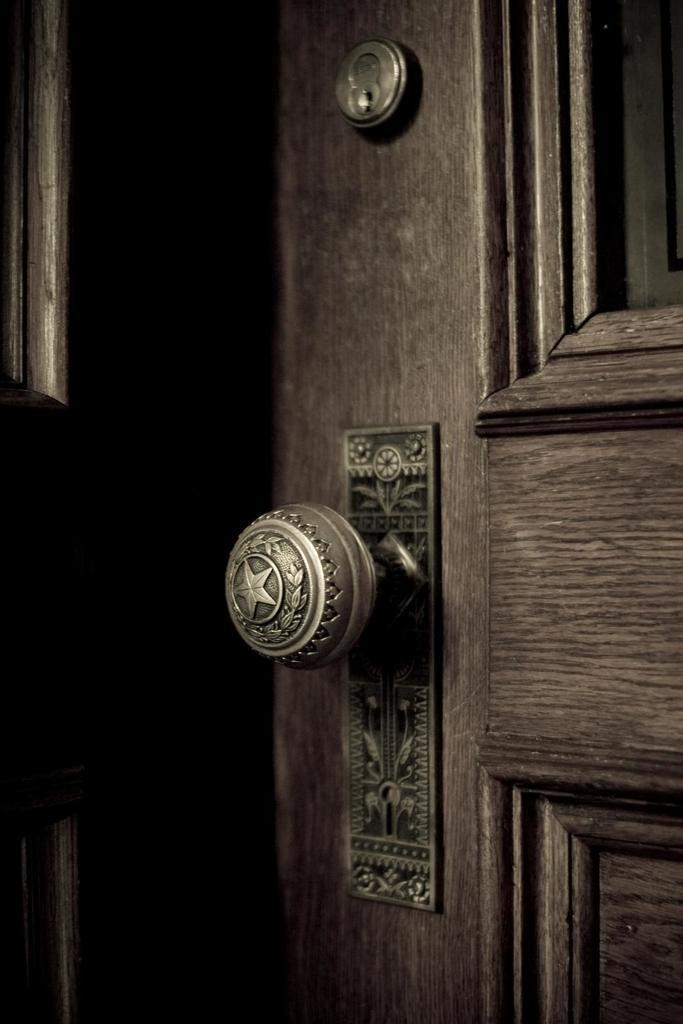door: (224, 56, 683, 1022)
handle: (216, 476, 378, 684)
